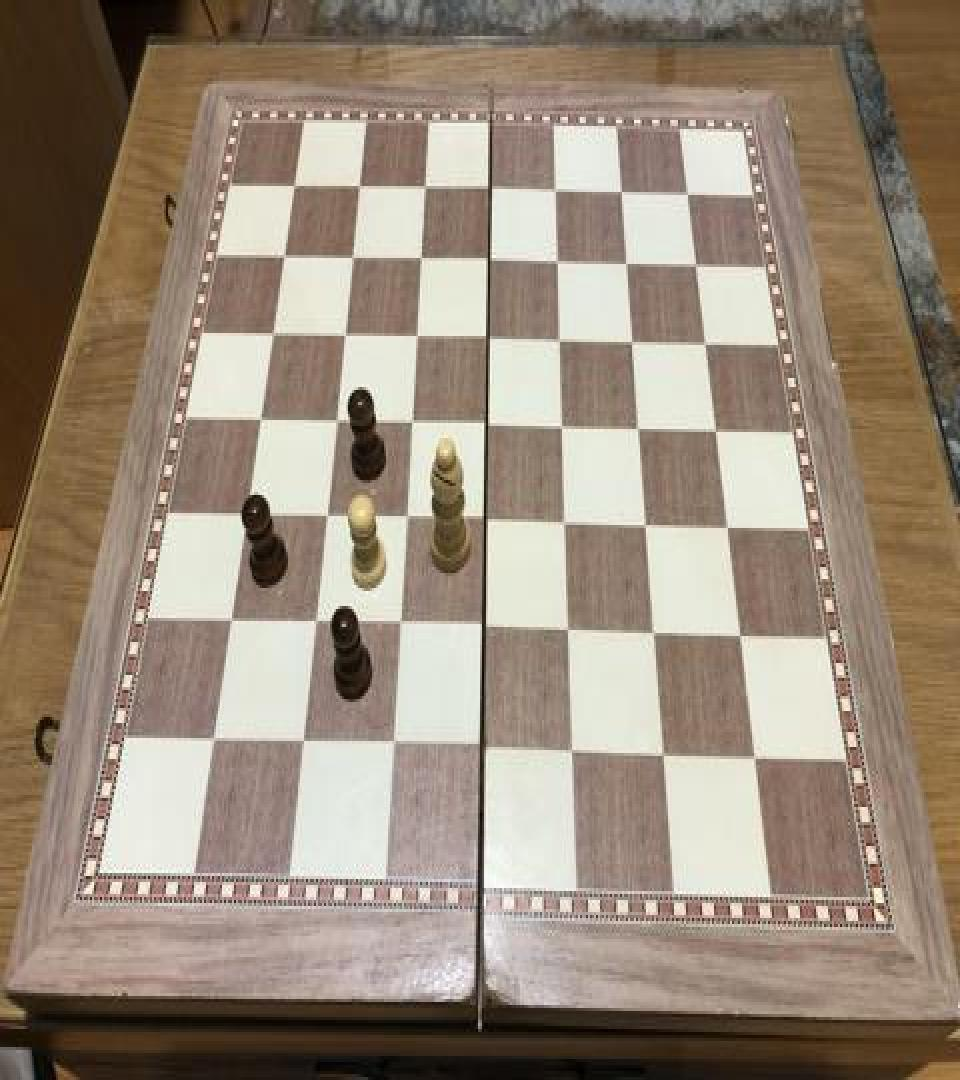xcorner: (732, 616, 756, 653), (476, 610, 500, 647), (565, 733, 589, 770), (678, 176, 702, 212), (612, 174, 636, 210), (415, 171, 439, 207), (350, 170, 374, 206), (284, 168, 308, 204), (687, 248, 711, 284), (618, 246, 642, 282), (549, 244, 573, 280), (480, 243, 504, 279), (411, 242, 435, 278), (343, 240, 367, 276), (274, 238, 298, 274), (697, 326, 721, 362), (624, 324, 648, 360), (551, 322, 575, 358), (479, 321, 503, 357), (407, 320, 431, 356), (335, 318, 359, 354), (263, 316, 287, 352), (631, 411, 655, 447), (554, 410, 578, 446), (478, 408, 502, 444), (402, 406, 426, 442), (326, 405, 350, 441), (251, 402, 275, 438), (719, 508, 743, 544), (638, 507, 662, 543), (557, 506, 581, 542), (477, 504, 501, 540), (397, 501, 421, 537), (317, 500, 341, 536), (237, 498, 261, 534), (646, 615, 670, 651), (561, 614, 585, 650), (391, 609, 415, 645), (306, 606, 330, 642), (222, 604, 246, 640), (746, 738, 770, 774), (656, 736, 680, 772), (475, 732, 499, 768), (384, 729, 408, 765), (294, 726, 318, 762), (205, 724, 229, 760), (547, 173, 571, 208), (481, 173, 505, 208), (707, 413, 731, 448)
